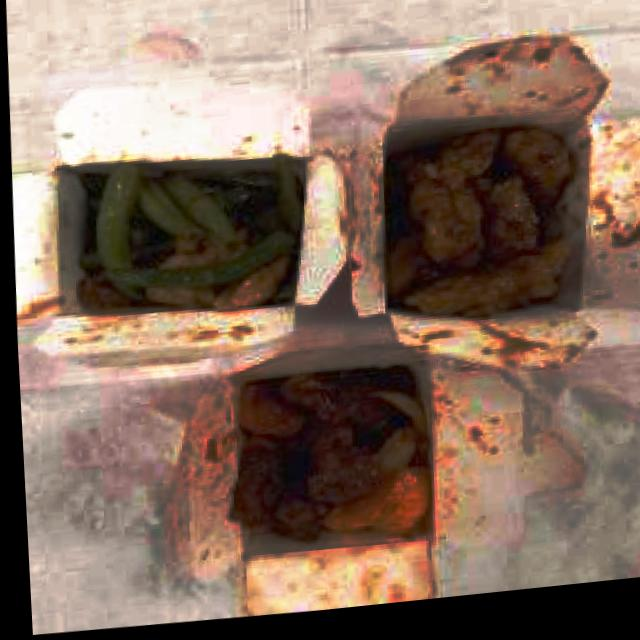Beijing Beef: (225, 353, 439, 556)
Kung Pao Chicken: (375, 110, 588, 330)
String Bean Chicken Breast: (68, 143, 311, 327)
